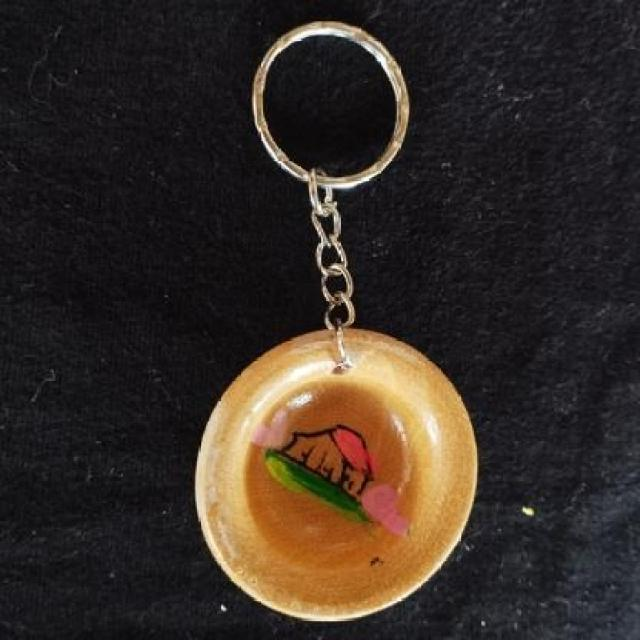Llavero: (193, 326, 479, 622)
